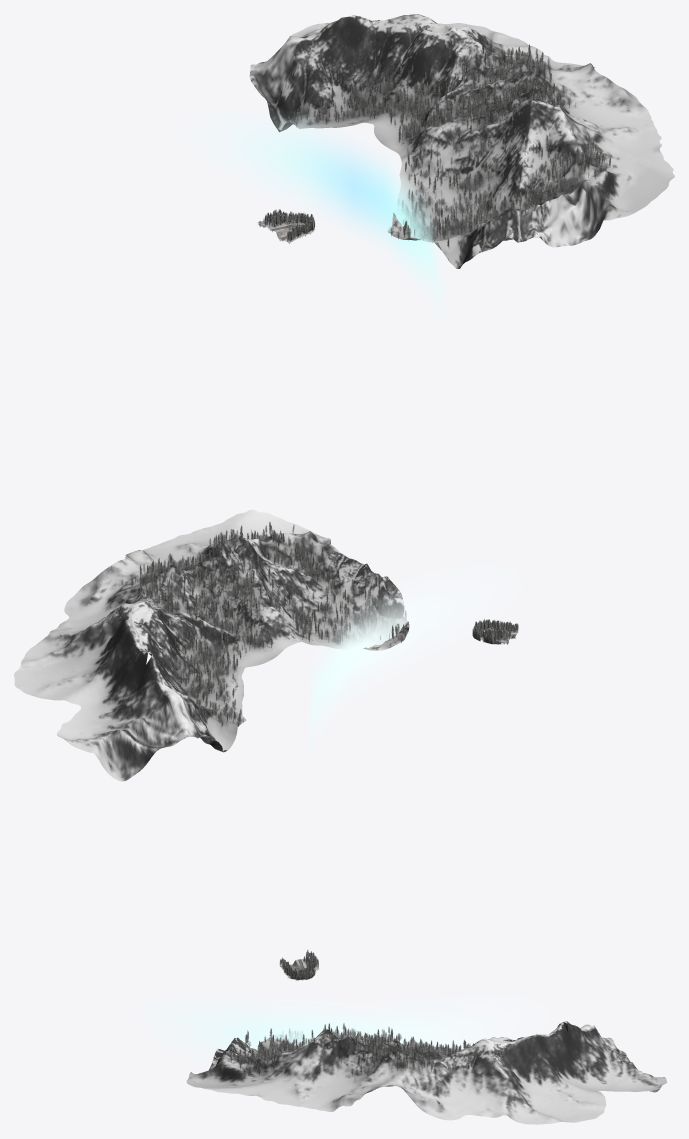
Rendered from snowroad.glb.
3 views of the same model, one above another, from view 1: azimuth 30°, elevation 25°; view 2: azimuth 150°, elevation 25°; view 3: azimuth 270°, elevation 25° (orthographic). The views are drawn at different scales.
Visible parts, largest first — view 1: MOUNTAIN, BACKGROUND_TREES, MIST, BACKGROUND_TREES.001; view 2: MOUNTAIN, BACKGROUND_TREES, MIST, BACKGROUND_TREES.001; view 3: MOUNTAIN, MIST, BACKGROUND_TREES, BACKGROUND_TREES.001.
Boxes of the visible parts, box(x1,y1,x2,y2) form: MOUNTAIN: box(249, 14, 674, 268); BACKGROUND_TREES: box(288, 39, 610, 248); MIST: box(229, 125, 441, 301); BACKGROUND_TREES.001: box(258, 209, 314, 243); MOUNTAIN: box(14, 509, 409, 781); BACKGROUND_TREES: box(121, 522, 406, 737); MIST: box(309, 579, 490, 747); BACKGROUND_TREES.001: box(472, 619, 518, 644); MOUNTAIN: box(186, 1021, 666, 1124); MIST: box(179, 1006, 519, 1053); BACKGROUND_TREES: box(230, 1023, 473, 1076); BACKGROUND_TREES.001: box(279, 950, 318, 980).
Bounding box in the file's own units: 822 × 297 × 1312.
Materials: 12 (12 with a texture image).
